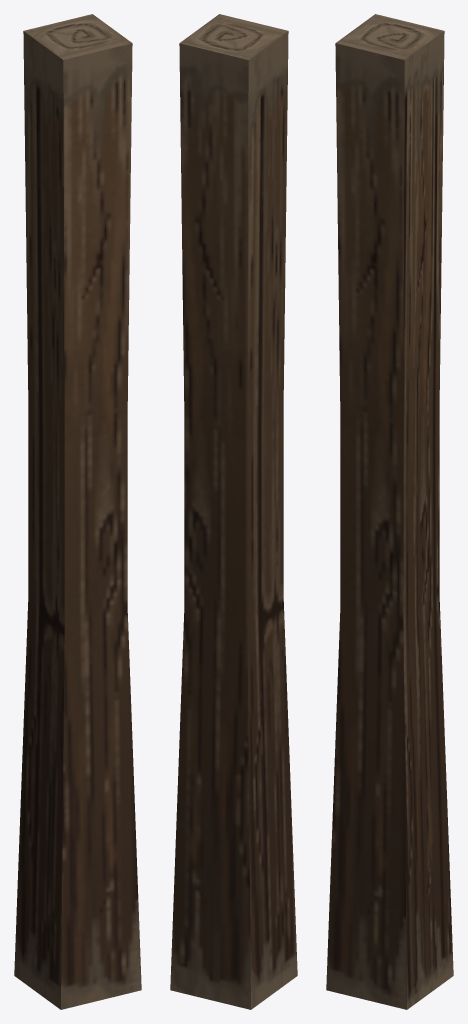
The model's file is prop_town_vertical_beam.glb.
The picture shows the model from 3 angles, left to right: view 1: azimuth 30°, elevation 25°; view 2: azimuth 150°, elevation 25°; view 3: azimuth 330°, elevation 25°; orthographic projection.
Visible parts, largest first — view 1: obj_vertical_beam; view 2: obj_vertical_beam; view 3: obj_vertical_beam.
Part boxes in pixels (left/top/right/bottom): obj_vertical_beam: left=14, top=14, right=141, bottom=1009; obj_vertical_beam: left=170, top=14, right=297, bottom=1009; obj_vertical_beam: left=326, top=14, right=453, bottom=1009.
Bounding box in the file's own units: 0.784 × 8.77 × 0.784.
1 material, 1 textured.
